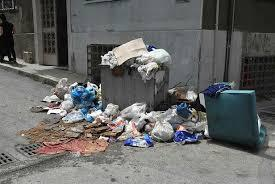Container: (95, 63, 167, 113)
Garbage: (101, 39, 172, 64), (40, 98, 85, 127), (69, 79, 100, 108), (78, 109, 107, 129), (153, 119, 173, 148), (126, 115, 153, 134), (140, 48, 170, 65), (124, 100, 148, 120), (202, 81, 232, 97), (172, 129, 203, 144), (178, 104, 199, 124), (127, 138, 155, 152), (150, 108, 170, 125), (138, 61, 158, 78), (73, 86, 95, 101), (33, 103, 58, 114), (55, 77, 67, 99), (111, 65, 129, 77), (110, 117, 122, 134), (92, 114, 107, 126), (125, 125, 140, 137), (65, 111, 79, 123), (101, 52, 116, 63), (107, 102, 117, 117), (61, 100, 70, 110), (130, 65, 135, 77)
